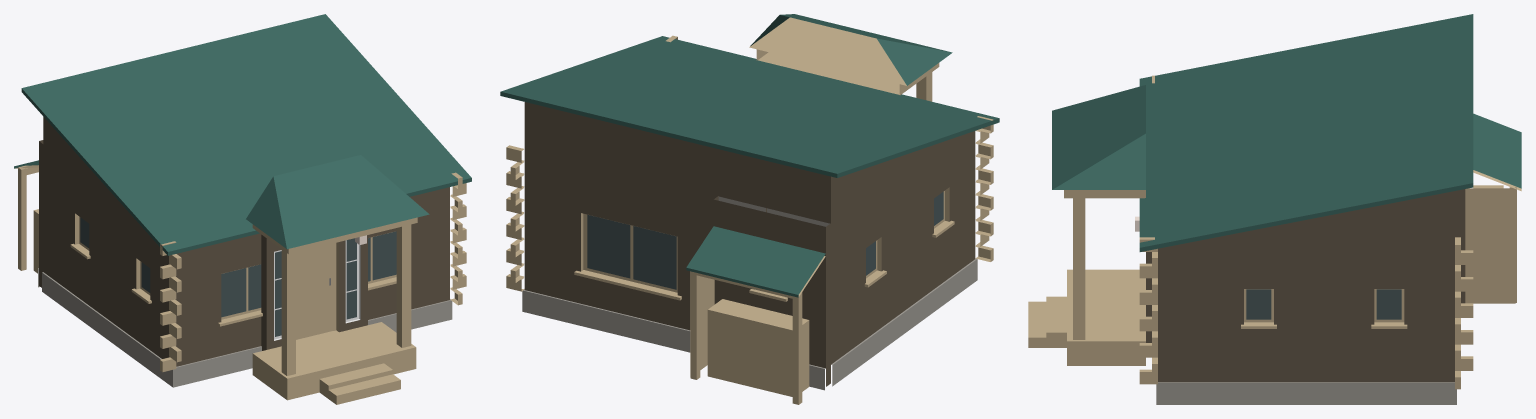
The model's file is mashup-hut_log-top-prebuilt.fbx.
3 views of the same model, side by side, from view 1: azimuth 30°, elevation 25°; view 2: azimuth 150°, elevation 25°; view 3: azimuth 270°, elevation 25° (orthographic). The views are drawn at different scales.
Parts seen in each view (by area): view 1: a2015.hut_log; view 2: a2015.hut_log; view 3: a2015.hut_log.
Part boxes in pixels (x1,y1,x2,y2): a2015.hut_log: [14, 14, 471, 404]; a2015.hut_log: [500, 14, 999, 404]; a2015.hut_log: [1028, 14, 1521, 404].
Size of the model in its own units: 6.6 by 4.21 by 8.14.
